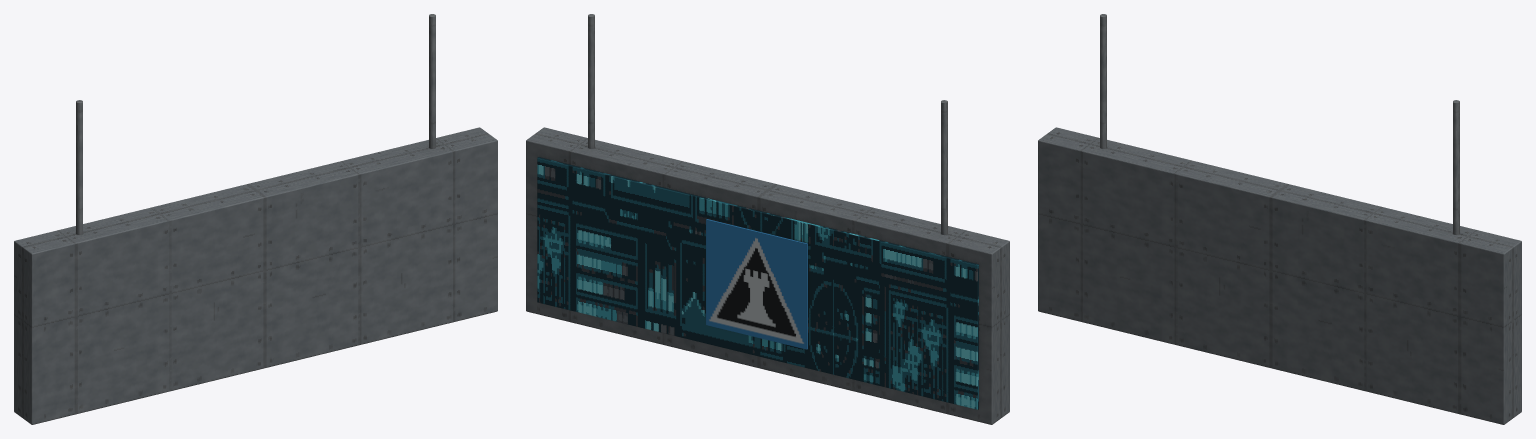
The model's file is base_big_screen.glb.
3 renders of one model, left to right at view 1: azimuth 30°, elevation 25°; view 2: azimuth 150°, elevation 25°; view 3: azimuth 330°, elevation 25°, orthographic.
Parts seen in each view (by area): view 1: base_big_screen.001; view 2: base_big_screen.001; view 3: base_big_screen.001.
Part boxes in pixels (left/top/right/bottom): base_big_screen.001: left=14, top=14, right=497, bottom=424; base_big_screen.001: left=526, top=14, right=1009, bottom=424; base_big_screen.001: left=1038, top=14, right=1521, bottom=424.
Bounding box in the file's own units: 7.4 × 4.6 × 0.565.
3 materials, 3 textured.
